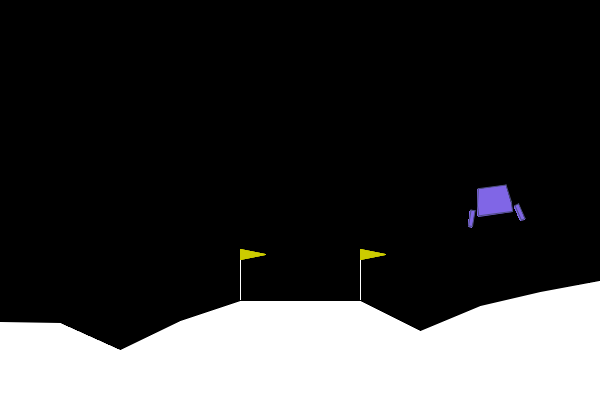lander: (462, 181, 526, 229)
